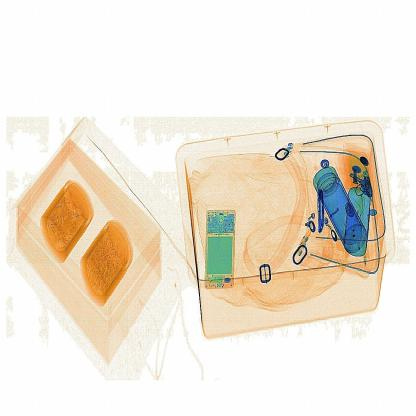knife: (311, 194, 329, 230)
